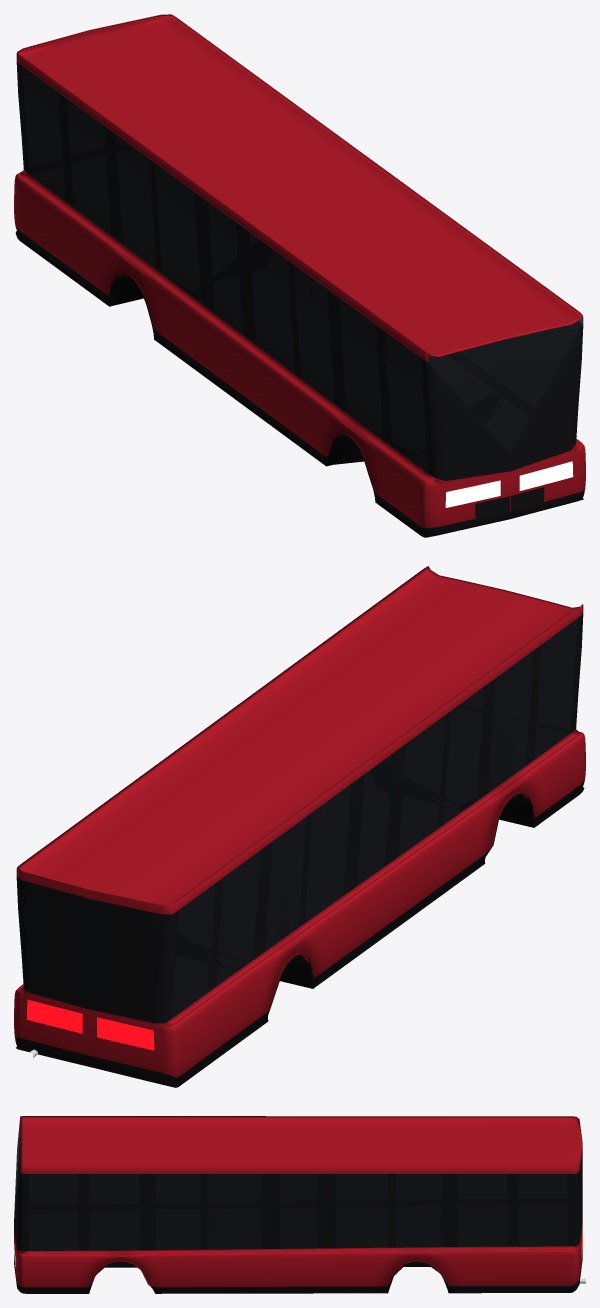
Rendered from bus.glb.
The picture shows the model from 3 angles, top to bottom: view 1: azimuth 30°, elevation 25°; view 2: azimuth 150°, elevation 25°; view 3: azimuth 270°, elevation 25°; orthographic projection. The views are drawn at different scales.
Visible parts, largest first — view 1: body (×2), headlights (×2), grille; view 2: body (×2), taillights (×2); view 3: body (×2).
Boxes of the visible parts, bbox=[...] form: body (×2): bbox=[14, 14, 585, 537]; headlights (×2): bbox=[445, 461, 573, 507]; grille: bbox=[475, 487, 544, 519]; body (×2): bbox=[14, 566, 585, 1087]; taillights (×2): bbox=[26, 999, 154, 1050]; body (×2): bbox=[14, 1116, 582, 1293].
Bounding box in the file's own units: 2.6 × 2.82 × 11.57.
